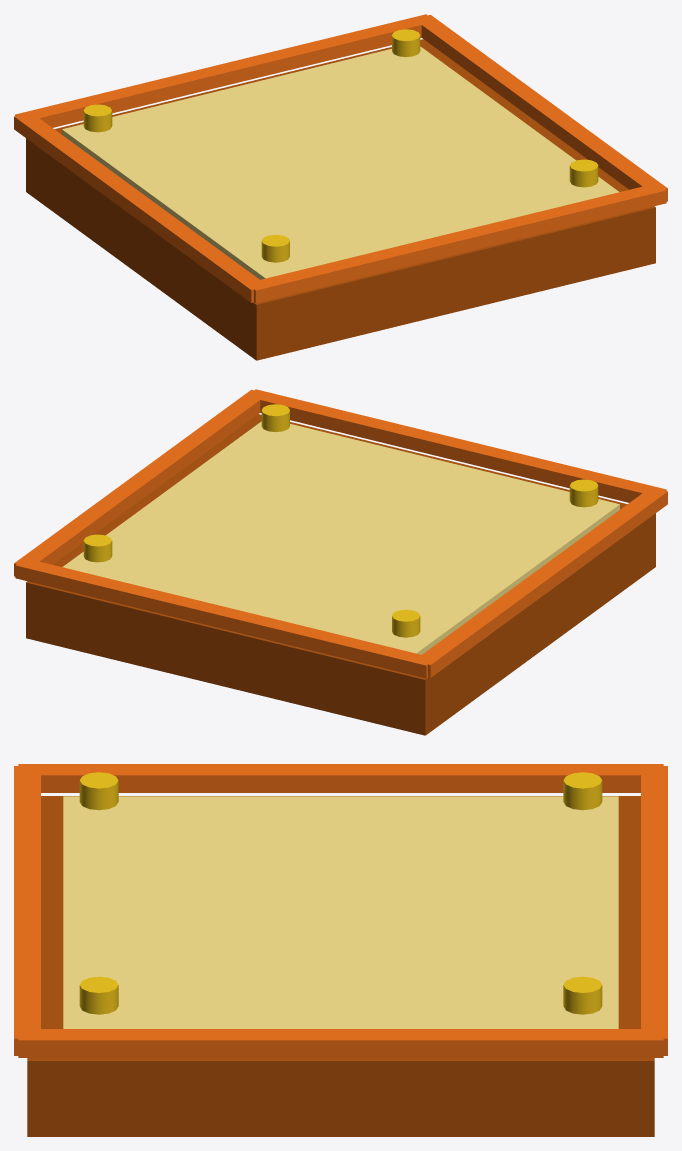
File: toy_square_plate_s1.glb
The picture shows the model from 3 angles, top to bottom: view 1: azimuth 30°, elevation 25°; view 2: azimuth 150°, elevation 25°; view 3: azimuth 270°, elevation 25°; orthographic projection. The views are drawn at different scales.
Parts seen in each view (by area): view 1: solid_2, solid_1, solid_4, solid_3, solid_5, solid_6, solid_10, solid_7, solid_9, solid_8; view 2: solid_2, solid_1, solid_3, solid_4, solid_5, solid_6, solid_9, solid_8, solid_10, solid_7; view 3: solid_2, solid_1, solid_6, solid_5, solid_4, solid_3, solid_9, solid_10, solid_7, solid_8.
Boxes of the visible parts, <box> form: solid_2: <box>62,46,619,279</box>; solid_1: <box>26,39,655,360</box>; solid_4: <box>246,183,666,303</box>; solid_3: <box>15,14,435,127</box>; solid_5: <box>14,115,267,302</box>; solid_6: <box>415,14,667,201</box>; solid_10: <box>569,159,598,187</box>; solid_7: <box>83,104,112,132</box>; solid_9: <box>392,29,420,56</box>; solid_8: <box>261,234,289,262</box>; solid_2: <box>62,421,619,654</box>; solid_1: <box>26,414,655,735</box>; solid_3: <box>15,558,435,678</box>; solid_4: <box>246,389,666,502</box>; solid_5: <box>414,490,667,677</box>; solid_6: <box>14,389,267,576</box>; solid_9: <box>83,534,112,562</box>; solid_8: <box>569,479,598,507</box>; solid_10: <box>261,404,289,431</box>; solid_7: <box>392,609,420,637</box>; solid_2: <box>63,796,618,1028</box>; solid_1: <box>27,796,654,1136</box>; solid_6: <box>18,1029,663,1057</box>; solid_5: <box>18,764,663,792</box>; solid_4: <box>14,766,40,1055</box>; solid_3: <box>641,766,667,1055</box>; solid_9: <box>563,976,602,1014</box>; solid_10: <box>79,976,118,1014</box>; solid_7: <box>563,772,602,810</box>; solid_8: <box>79,772,118,810</box>.
Bounding box in the file's own units: 4.38 × 0.9 × 4.38.
